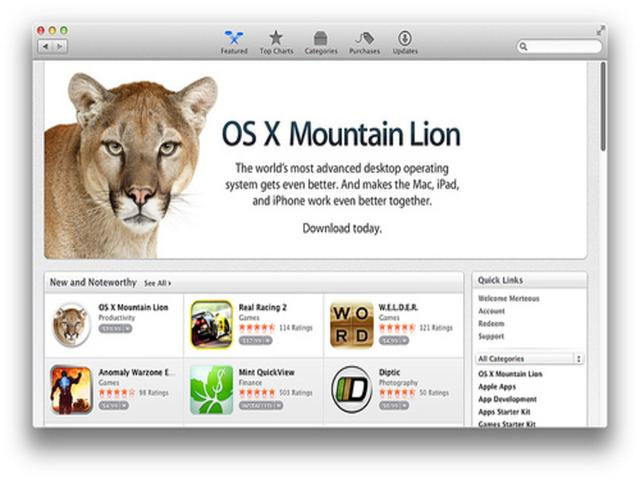lion: (38, 62, 262, 293)
